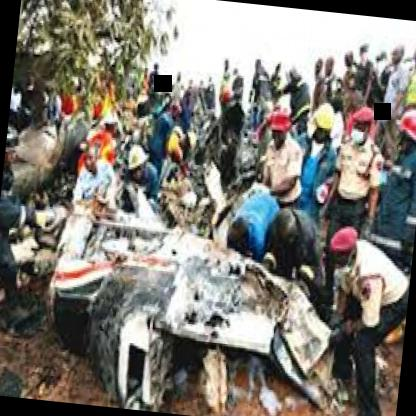accident: (26, 166, 363, 416)
